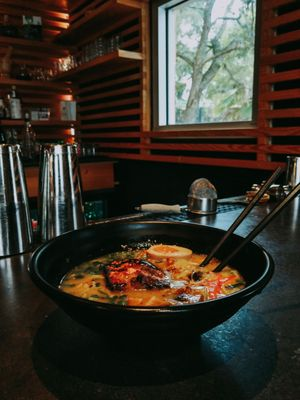sandwich: (62, 244, 249, 306)
